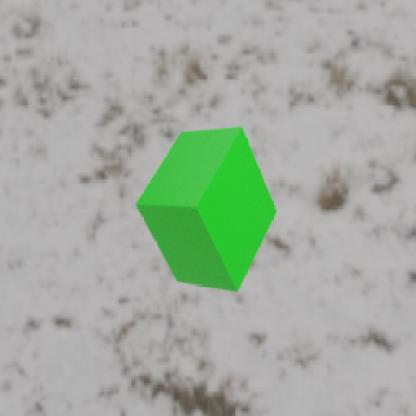cube: (134, 125, 277, 293)
